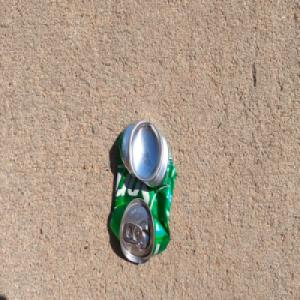SodaCan: (109, 117, 178, 264)
